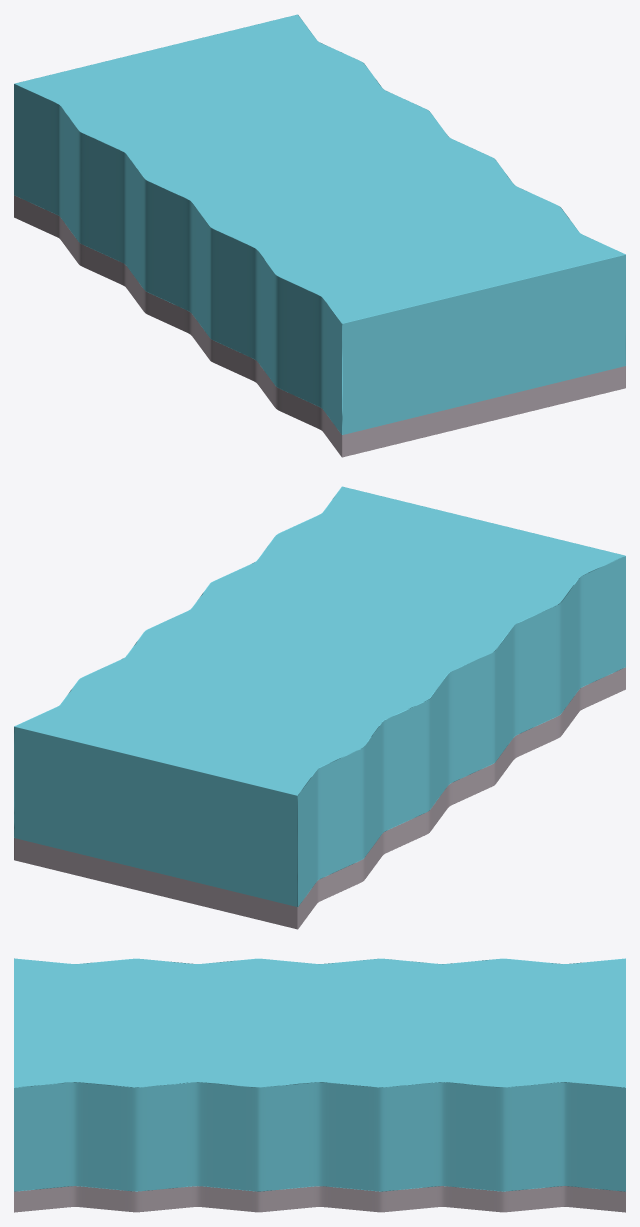
The model's file is wiper.fbx.
3 renders of one model, top to bottom at view 1: azimuth 30°, elevation 25°; view 2: azimuth 150°, elevation 25°; view 3: azimuth 270°, elevation 25°, orthographic. The views are drawn at different scales.
Visible parts, largest first — view 1: Cube, Cube.001; view 2: Cube, Cube.001; view 3: Cube, Cube.001.
Boxes of the visible parts, x1=… form: Cube: x1=14, y1=14, x2=625, y2=434; Cube.001: x1=14, y1=195, x2=625, y2=457; Cube: x1=14, y1=486, x2=625, y2=906; Cube.001: x1=14, y1=667, x2=625, y2=929; Cube: x1=14, y1=958, x2=625, y2=1191; Cube.001: x1=14, y1=1186, x2=625, y2=1212.
Bounding box in the file's own units: 40 × 18 × 80.
